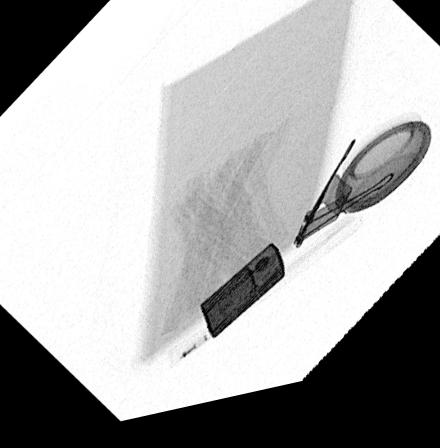Lighter: (198, 254, 285, 349)
